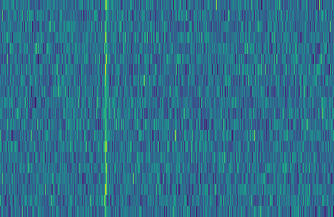signal: (99, 0, 109, 217)
